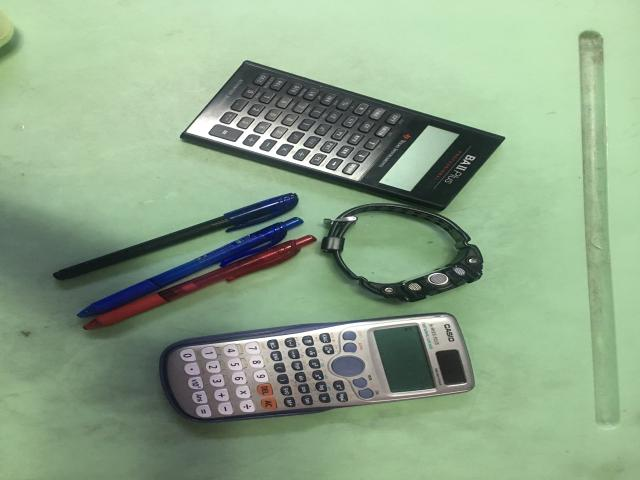Pen: (77, 220, 319, 332), (55, 195, 298, 282)
Watch: (321, 204, 484, 303)
